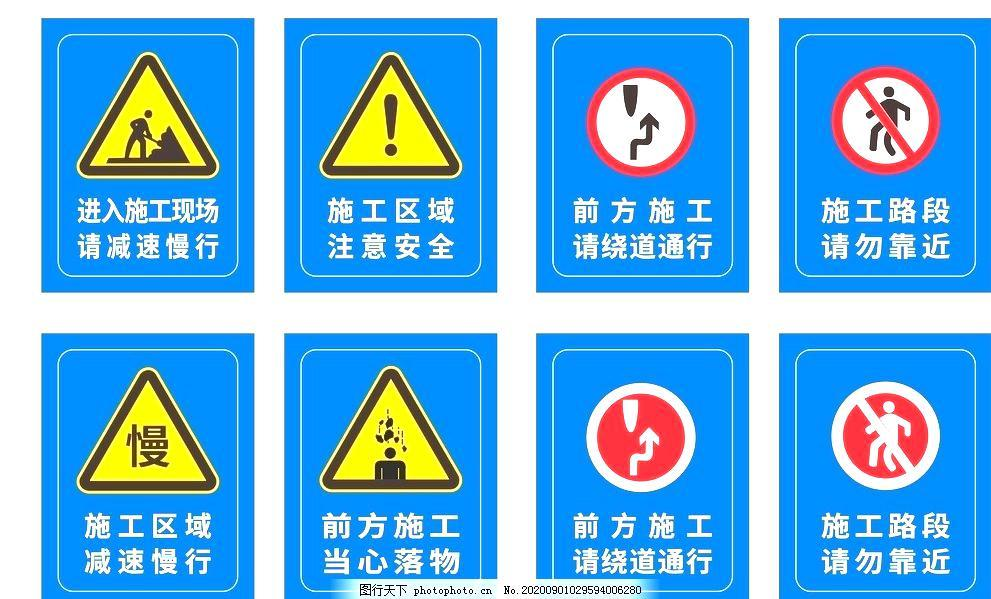sign: (542, 26, 744, 286), (289, 26, 491, 285), (541, 341, 743, 594), (787, 25, 983, 283), (789, 341, 985, 597), (48, 338, 243, 595), (53, 24, 244, 285), (291, 338, 484, 590)
